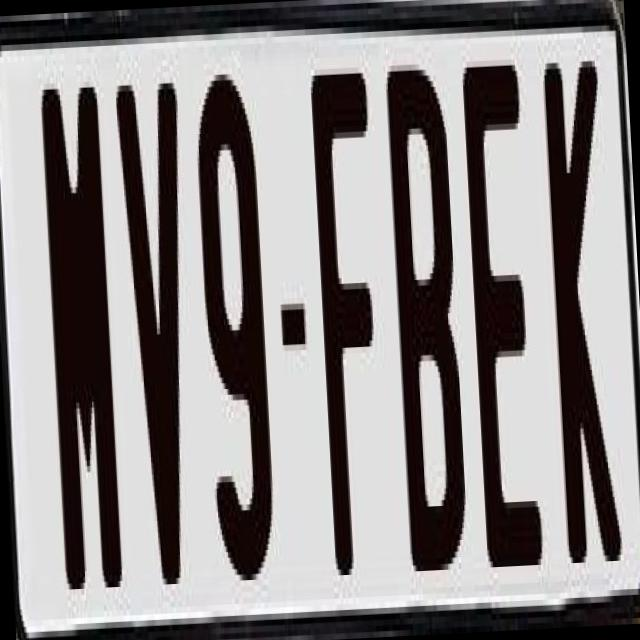9: (188, 61, 274, 600)
B: (382, 51, 476, 590)
E: (456, 59, 542, 574)
F: (307, 73, 389, 599)
K: (538, 43, 618, 570)
M: (40, 86, 134, 619)
V: (114, 82, 208, 610)
